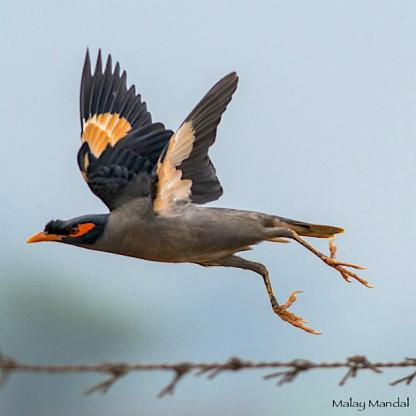Burung: (25, 54, 372, 334)
